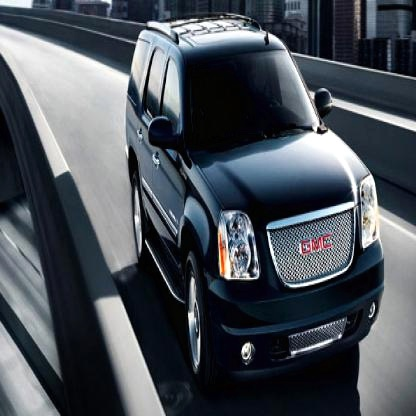Vehicle: (126, 12, 388, 388)
